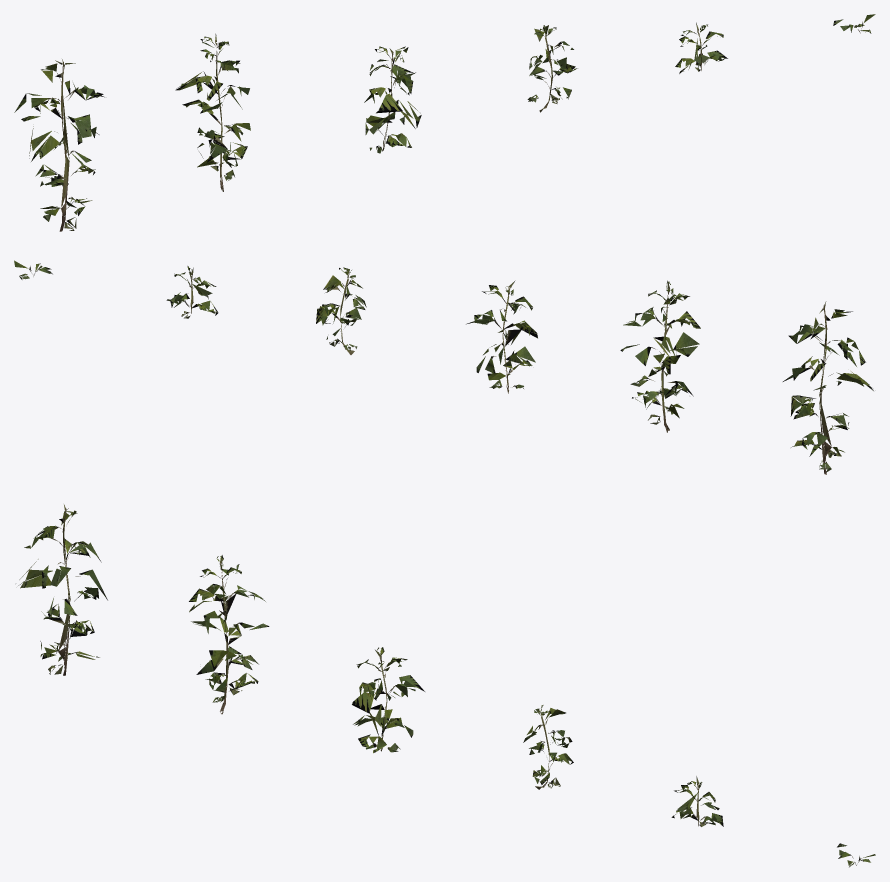
Rendered from ph_nettle_plant_lod1.glb.
3 views of the same model, one above another, from view 1: azimuth 30°, elevation 25°; view 2: azimuth 150°, elevation 25°; view 3: azimuth 330°, elevation 25° (orthographic).
Parts seen in each view (by area): view 1: ph_nettle_plant_lod1; view 2: ph_nettle_plant_lod1; view 3: ph_nettle_plant_lod1.
Part boxes in pixels (box(x1,y1,x2,y2)): ph_nettle_plant_lod1: box(14, 14, 875, 231); ph_nettle_plant_lod1: box(14, 260, 873, 474); ph_nettle_plant_lod1: box(18, 504, 875, 867).
Bounding box in the file's own units: 1.08 × 0.209 × 0.0911.
1 material, 1 textured.
